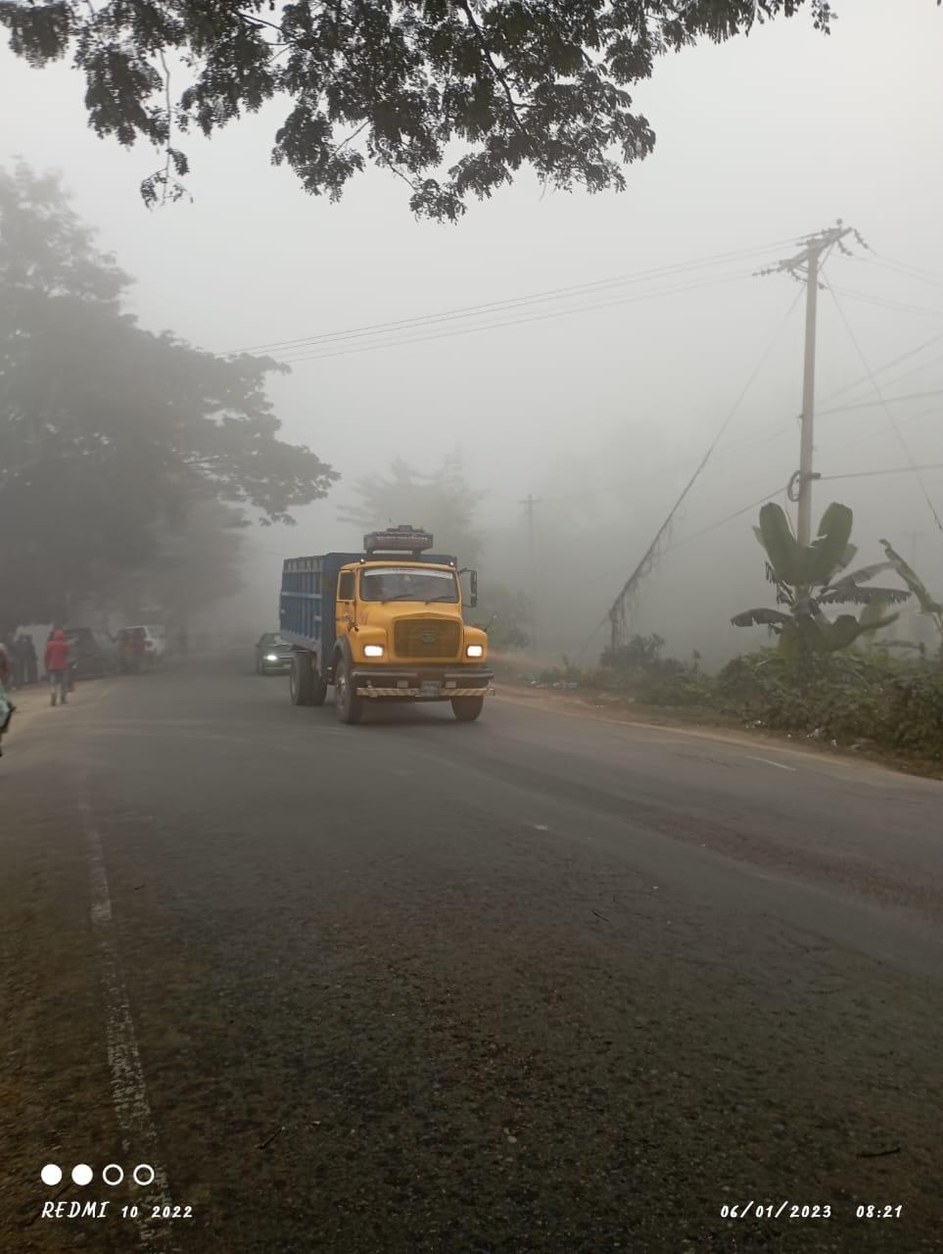Car: (248, 624, 302, 673)
Truck: (283, 516, 502, 726)
